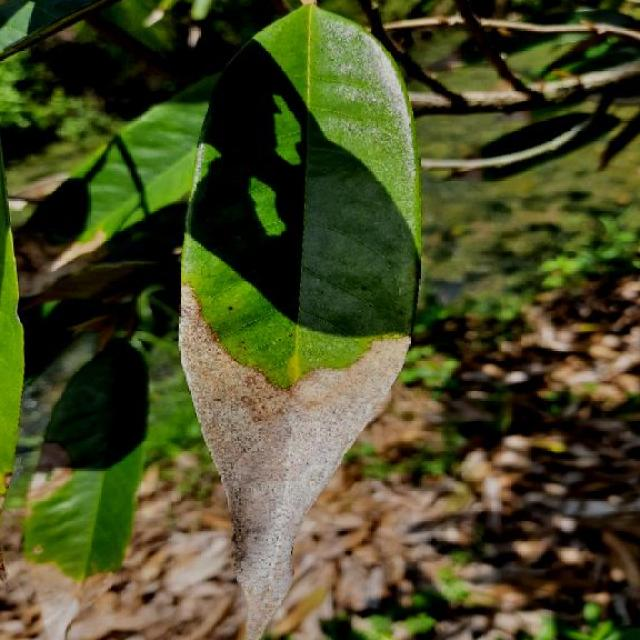Leaf Blight: (140, 0, 469, 640)
